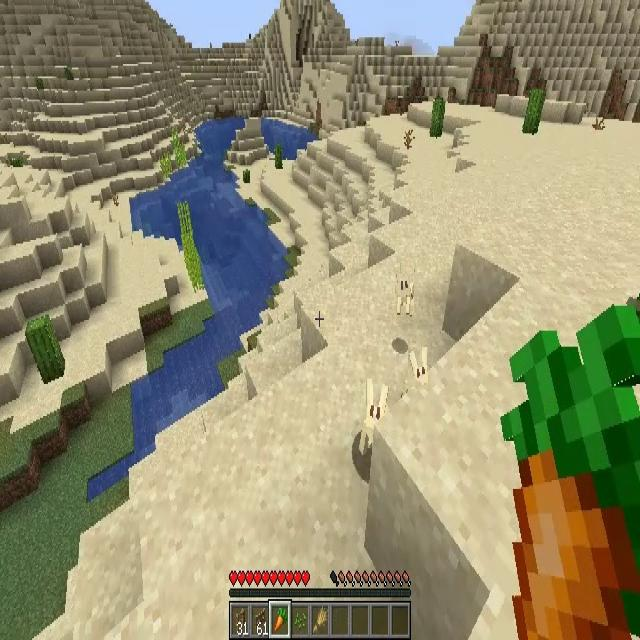rabbit: (359, 381, 386, 461), (408, 348, 428, 390), (396, 274, 414, 315)
